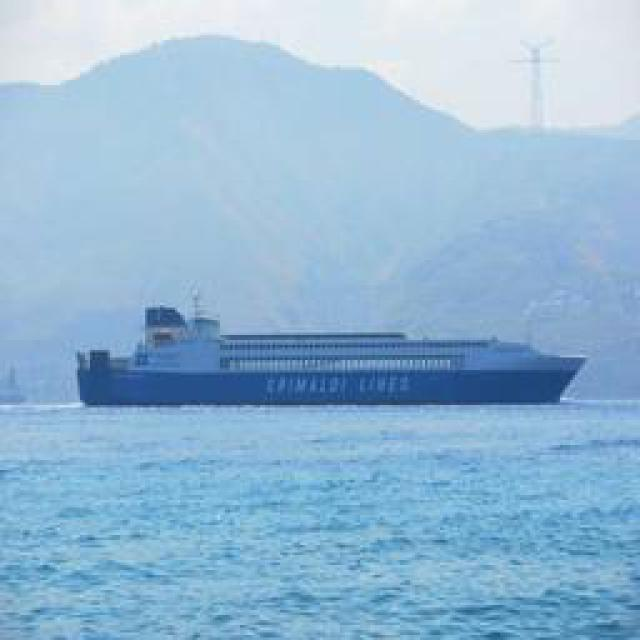Ship: (87, 315, 585, 410)
